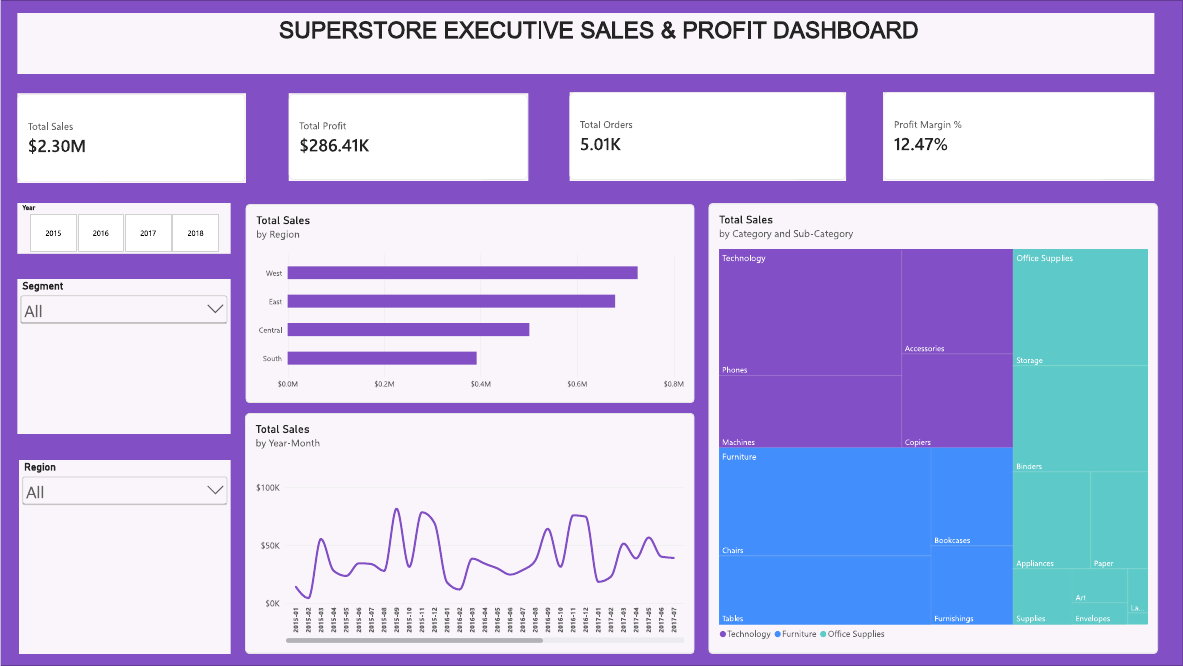

Layout of this report page (visuals, bound fields, positions):
{"tool":"powerbi","page":{"name":"Sales and Profit","canvas":[1920,1080],"ordinal":0},"visuals":[{"type":"shape","box":[0,0,1920,1080],"z":0},{"type":"cardVisual","fields":{"Data":["Fact_Orders.Total Sales"]},"box":[27.3,151.9,370.6,142.8],"z":1000},{"type":"cardVisual","fields":{"Data":["Fact_Orders.Total Profit"]},"box":[467.8,151.9,388.9,139.7],"z":2000},{"type":"cardVisual","fields":{"Data":["Fact_Orders.Total Orders"]},"box":[923.5,148.9,449.6,142.8],"z":3000},{"type":"cardVisual","fields":{"Data":["Fact_Orders.Profit Margin %"]},"box":[1433.9,148.9,440.5,142.8],"z":4000},{"type":"lineChart","fields":{"Category":["Dim_Date.Year-Month"],"Y":["Fact_Orders.Total Sales"]},"box":[396.7,670,730,390],"z":5000},{"type":"treemap","fields":{"Details":["Dim_Product.Sub-Category"],"Group":["Dim_Product.Category"],"Values":["Fact_Orders.Total Sales"]},"box":[1150,330,730,730],"z":6000},{"type":"clusteredBarChart","fields":{"Category":["Fact_Orders.Region"],"Y":["Fact_Orders.Total Sales"]},"box":[398,331.1,729.1,322],"z":7000},{"type":"slicer","fields":{"Values":["Dim_Date.Year"]},"box":[26.7,330,346.7,80],"z":8000},{"type":"slicer","fields":{"Values":["Fact_Orders.Region"]},"box":[30,746.7,343.3,313.3],"z":9000},{"type":"slicer","fields":{"Values":["Dim_Customer.Segment"]},"box":[26.7,453.3,346.7,250],"z":10000},{"type":"textbox","box":[27.3,21.3,1847.1,97.2],"z":11000}]}

Visuals, with their boxes in screenshot pixels (x1, y1, x2, y2), scaled from the page's 1920x1080 canvas onto the 1183x666 screenshot:
shape: rect(0, 0, 1182, 665)
cardVisual - Fact_Orders.Total Sales: rect(17, 94, 245, 182)
cardVisual - Fact_Orders.Total Profit: rect(288, 94, 528, 180)
cardVisual - Fact_Orders.Total Orders: rect(569, 92, 846, 180)
cardVisual - Fact_Orders.Profit Margin %: rect(883, 92, 1155, 180)
lineChart - Dim_Date.Year-Month x Fact_Orders.Total Sales: rect(244, 413, 694, 654)
treemap - Dim_Product.Sub-Category x Dim_Product.Category: rect(709, 204, 1158, 654)
clusteredBarChart - Fact_Orders.Region x Fact_Orders.Total Sales: rect(245, 204, 694, 403)
slicer - Dim_Date.Year: rect(16, 204, 230, 253)
slicer - Fact_Orders.Region: rect(18, 460, 230, 654)
slicer - Dim_Customer.Segment: rect(16, 280, 230, 434)
textbox: rect(17, 13, 1155, 73)
